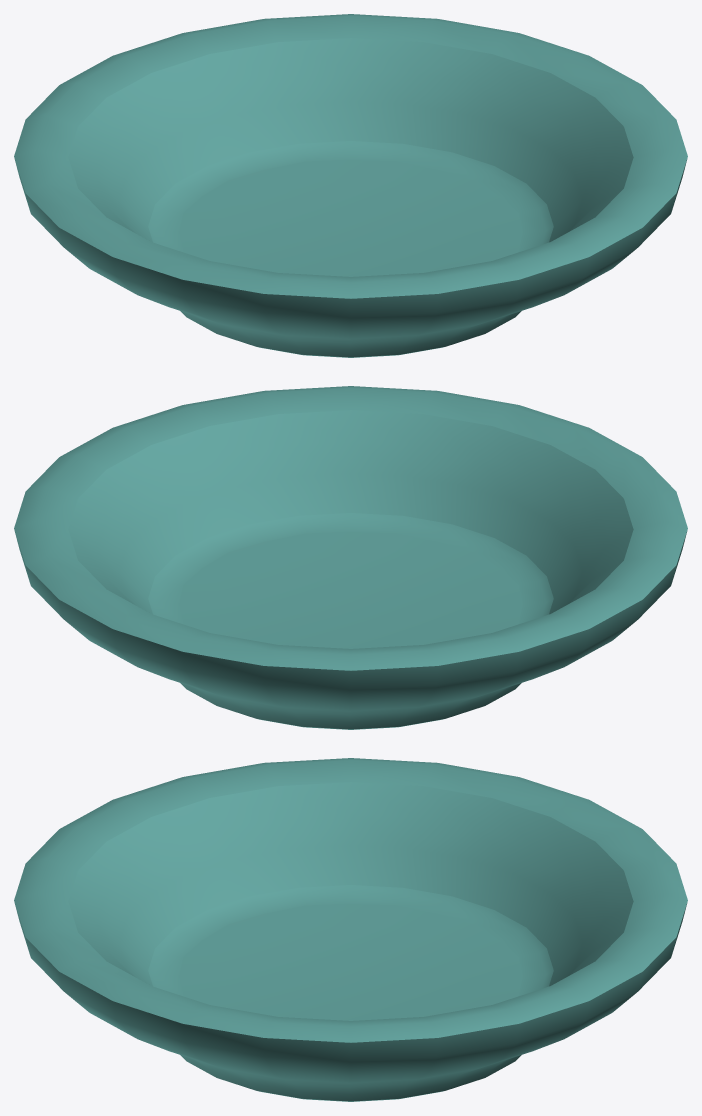
File: 085_single_plate.glb
3 views of the same model, one above another, from view 1: azimuth 30°, elevation 25°; view 2: azimuth 150°, elevation 25°; view 3: azimuth 270°, elevation 25° (orthographic).
Visible parts, largest first — view 1: Circle; view 2: Circle; view 3: Circle.
Boxes of the visible parts, box(x1,y1,x2,y2) form: Circle: box(14, 14, 687, 357); Circle: box(14, 386, 687, 729); Circle: box(14, 758, 687, 1101).
Bounding box in the file's own units: 0.5041 × 0.108 × 0.5041.
